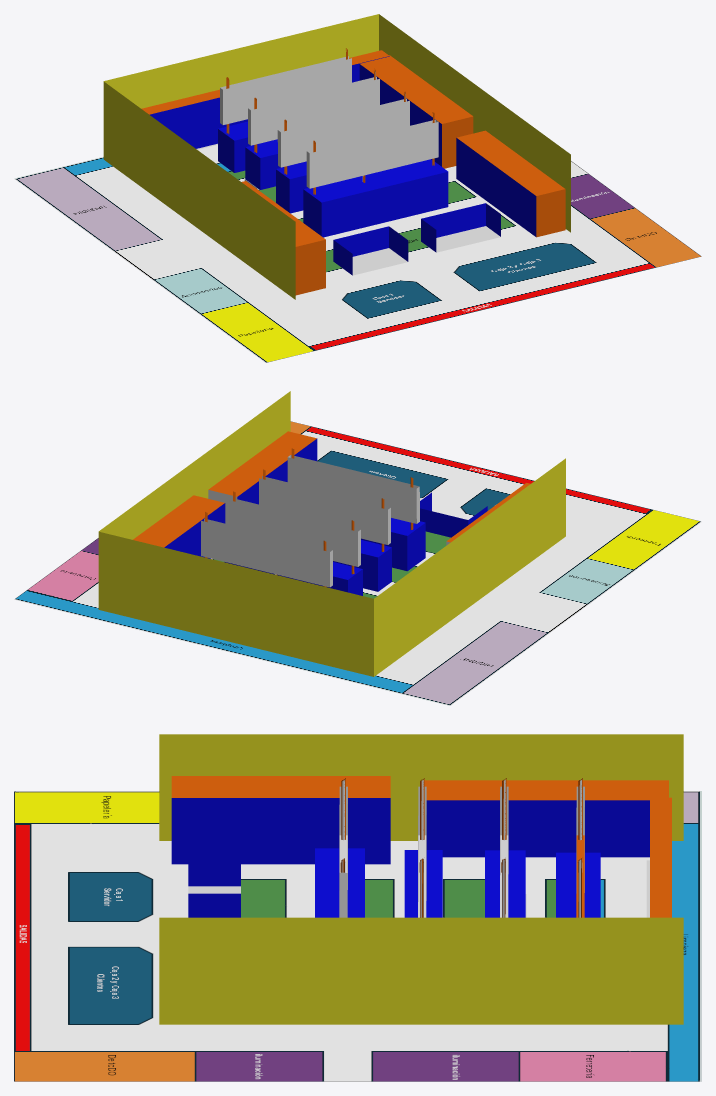
Rendered from cate.glb.
3 renders of one model, top to bottom at view 1: azimuth 30°, elevation 25°; view 2: azimuth 150°, elevation 25°; view 3: azimuth 270°, elevation 25°, orthographic. The views are drawn at different scales.
Visible parts, largest first — view 1: Cube, Plane.001; view 2: Cube, Plane.001; view 3: Cube, Plane.001.
Part boxes in pixels (x1,y1,x2,y2): Cube: (103, 14, 570, 299); Plane.001: (14, 145, 701, 362); Cube: (98, 391, 565, 676); Plane.001: (14, 421, 701, 705); Cube: (159, 734, 683, 1024); Plane.001: (14, 791, 701, 1081).
Size of the model in its own units: 101 by 21.94 by 101.
5 materials, 1 textured.
